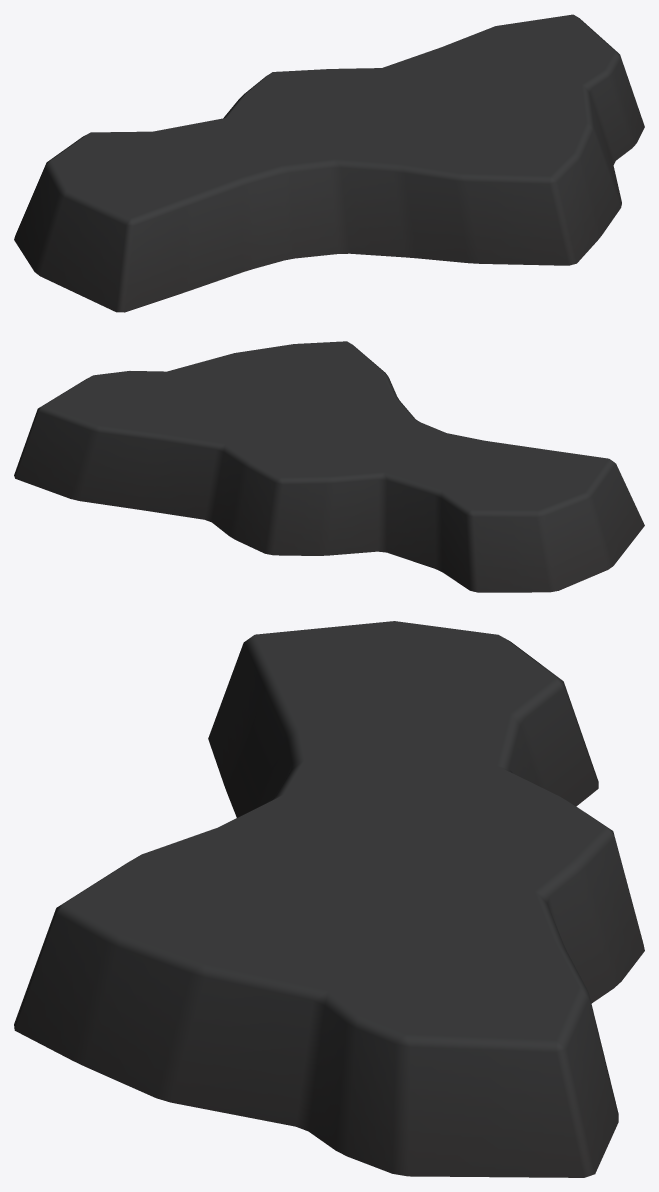
Rendered from PlatformSmall_004.glb.
The picture shows the model from 3 angles, top to bottom: view 1: azimuth 30°, elevation 25°; view 2: azimuth 150°, elevation 25°; view 3: azimuth 270°, elevation 25°; orthographic projection. The views are drawn at different scales.
Parts seen in each view (by area): view 1: PlatformSmall_004; view 2: PlatformSmall_004; view 3: PlatformSmall_004.
Boxes of the visible parts, bbox=[...] form: PlatformSmall_004: bbox=[14, 14, 644, 312]; PlatformSmall_004: bbox=[14, 341, 644, 592]; PlatformSmall_004: bbox=[14, 621, 644, 1177].
Size of the model in its own units: 67.68 by 8.25 by 39.31.
Materials: 1 (1 with a texture image).
